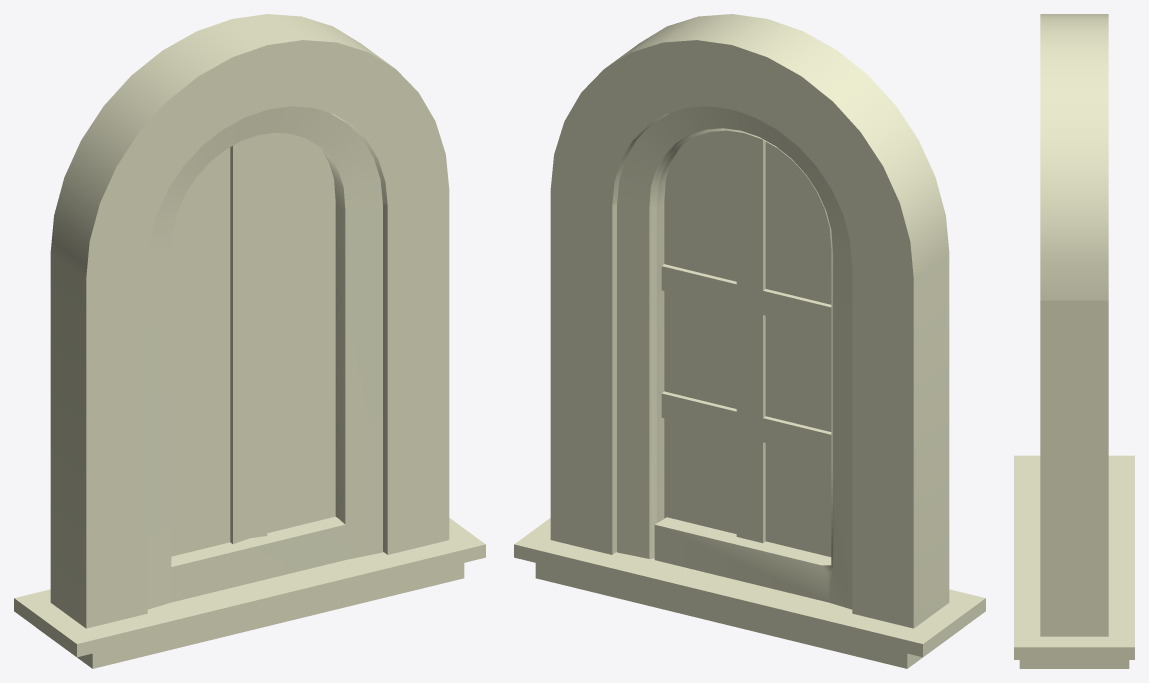
The model's file is pencere.fbx.
3 renders of one model, left to right at view 1: azimuth 30°, elevation 25°; view 2: azimuth 150°, elevation 25°; view 3: azimuth 270°, elevation 25°, orthographic. The views are drawn at different scales.
Visible parts, largest first — view 1: pencere; view 2: pencere; view 3: pencere.
Boxes of the visible parts, left/top/right/bottom form: pencere: left=14, top=14, right=485, bottom=668; pencere: left=514, top=14, right=985, bottom=668; pencere: left=1014, top=14, right=1134, bottom=668.
Size of the model in its own units: 1.88 by 2.51 by 0.501.
